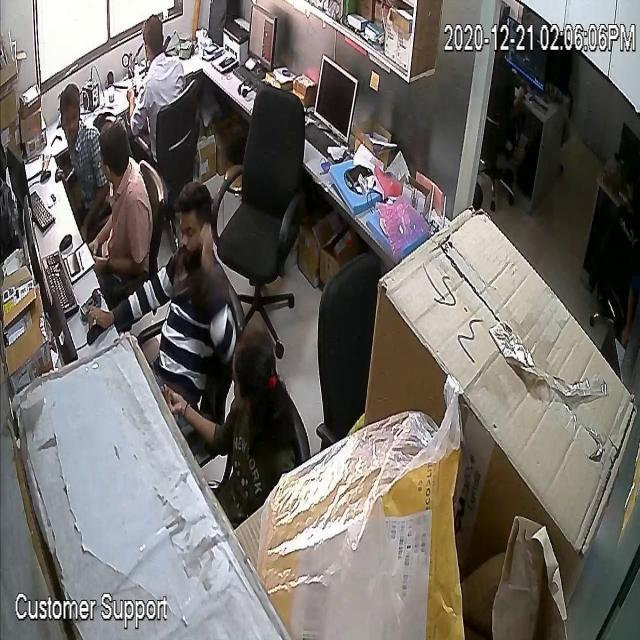chair: (218, 84, 308, 351), (311, 252, 382, 444), (151, 76, 203, 183), (486, 78, 516, 220), (593, 220, 626, 328), (138, 153, 168, 264), (284, 377, 312, 465)
keyboard: (45, 244, 77, 318), (305, 108, 340, 164), (231, 60, 270, 100), (31, 188, 56, 236)
monitor: (313, 50, 359, 149), (19, 193, 47, 299), (512, 16, 548, 92), (47, 287, 79, 362), (248, 2, 276, 73), (623, 226, 639, 346), (7, 150, 31, 214), (617, 122, 640, 178)
person: (96, 182, 235, 411), (172, 332, 288, 494), (89, 125, 152, 271), (52, 80, 104, 210), (128, 14, 186, 122), (498, 22, 525, 114)
phone: (66, 249, 80, 276)
